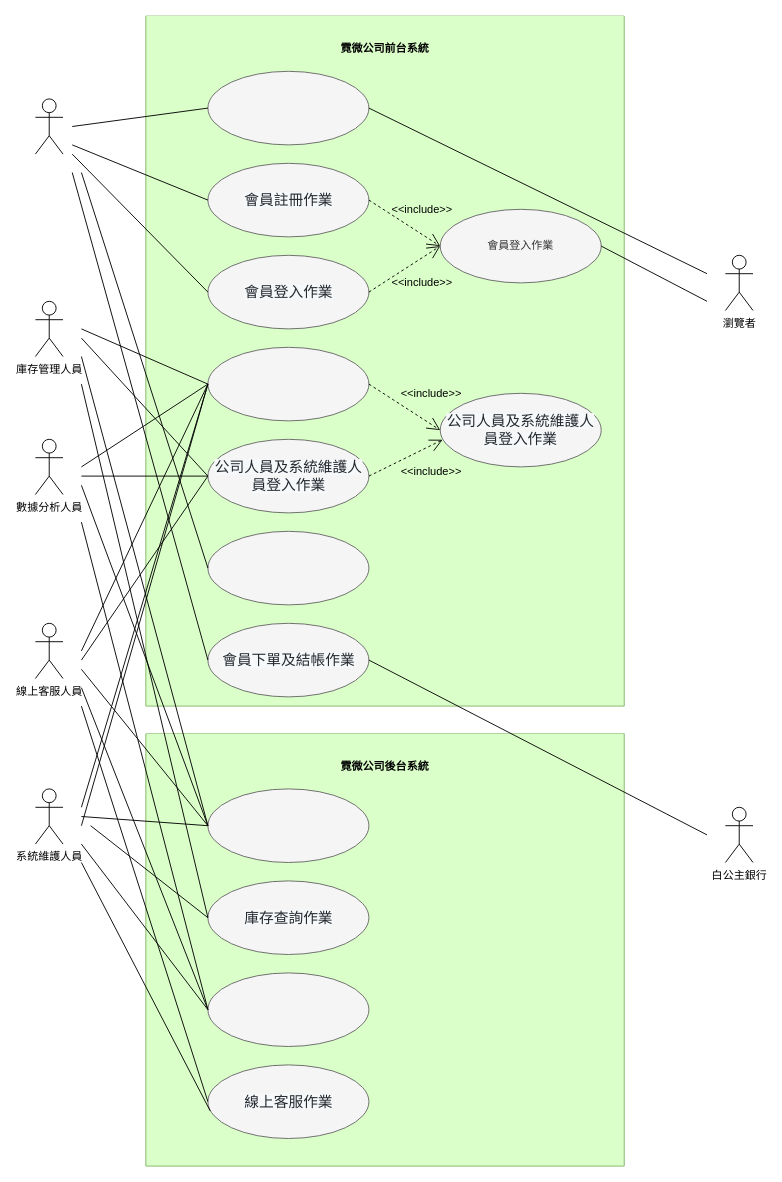
This 782x1182 diagram has some shape labels left out. Here are the shapes that lost their labels. From the top down, the centre of each, then its label:
[48,126]: 客戶
[288,107]: 基本系統介面作業
[288,383]: 公司人員及系統維護人員註冊作業
[288,567]: 會員連接線上客服作業
[288,825]: 公司人員審核註冊作業
[288,1009]: 查詢訂單狀態作業
